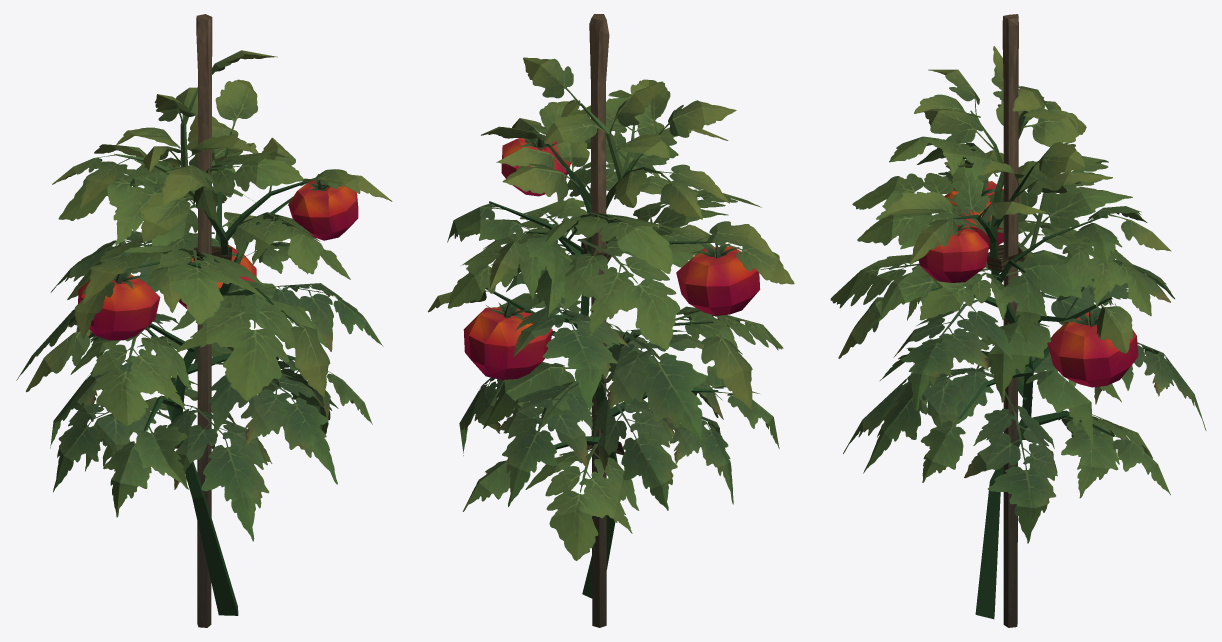
Rendered from P_Herb_00148.obj.
The picture shows the model from 3 angles, left to right: view 1: azimuth 30°, elevation 25°; view 2: azimuth 150°, elevation 25°; view 3: azimuth 270°, elevation 25°; orthographic projection.
Size of the model in its own units: 0.9509 by 1.77 by 1.01.
Materials: 1 (1 with a texture image).
